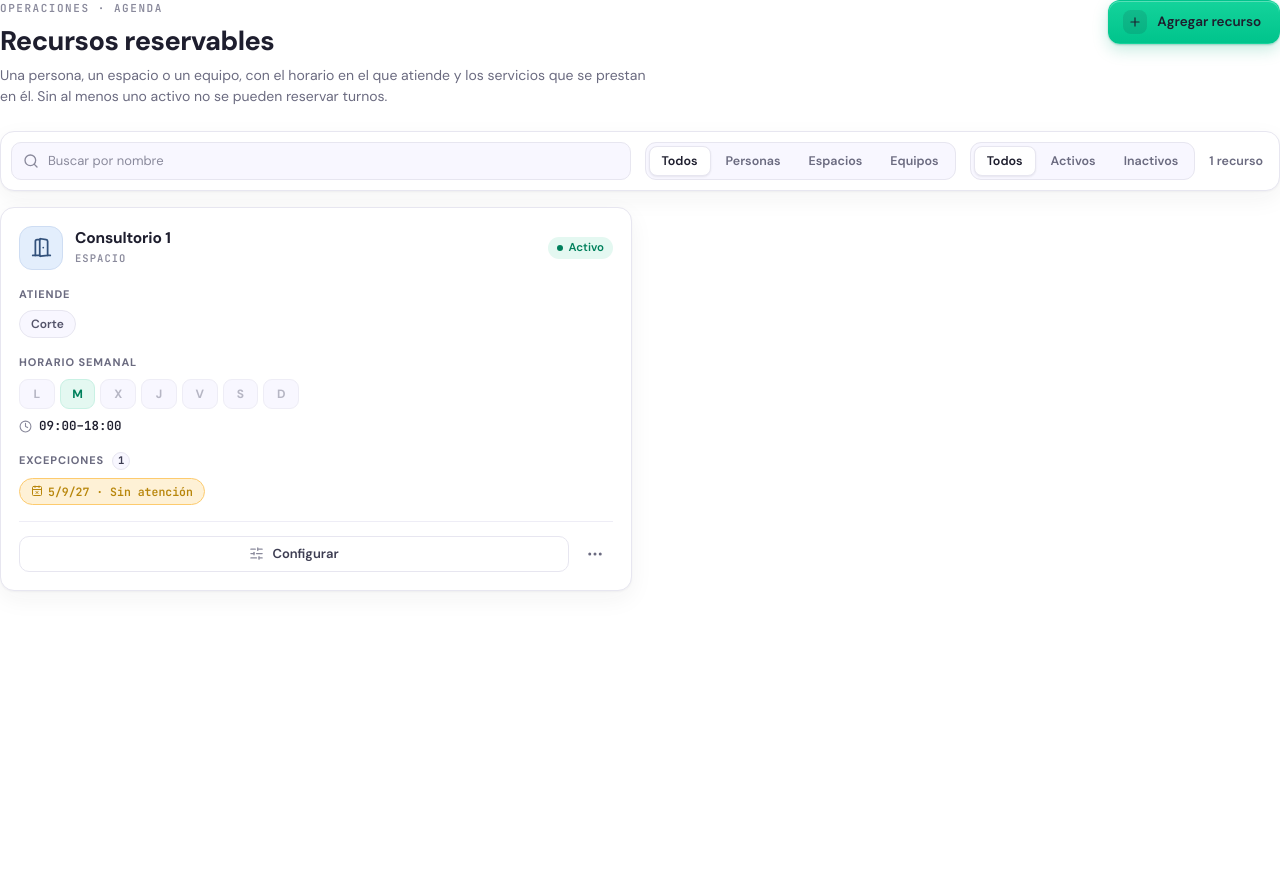
Test: PAN-AGE-03 › no deja guardar una franja invertida, y lo dice con la frase de la historia
Click the button "Configurar" at [294, 554], box [19,536,569,572]
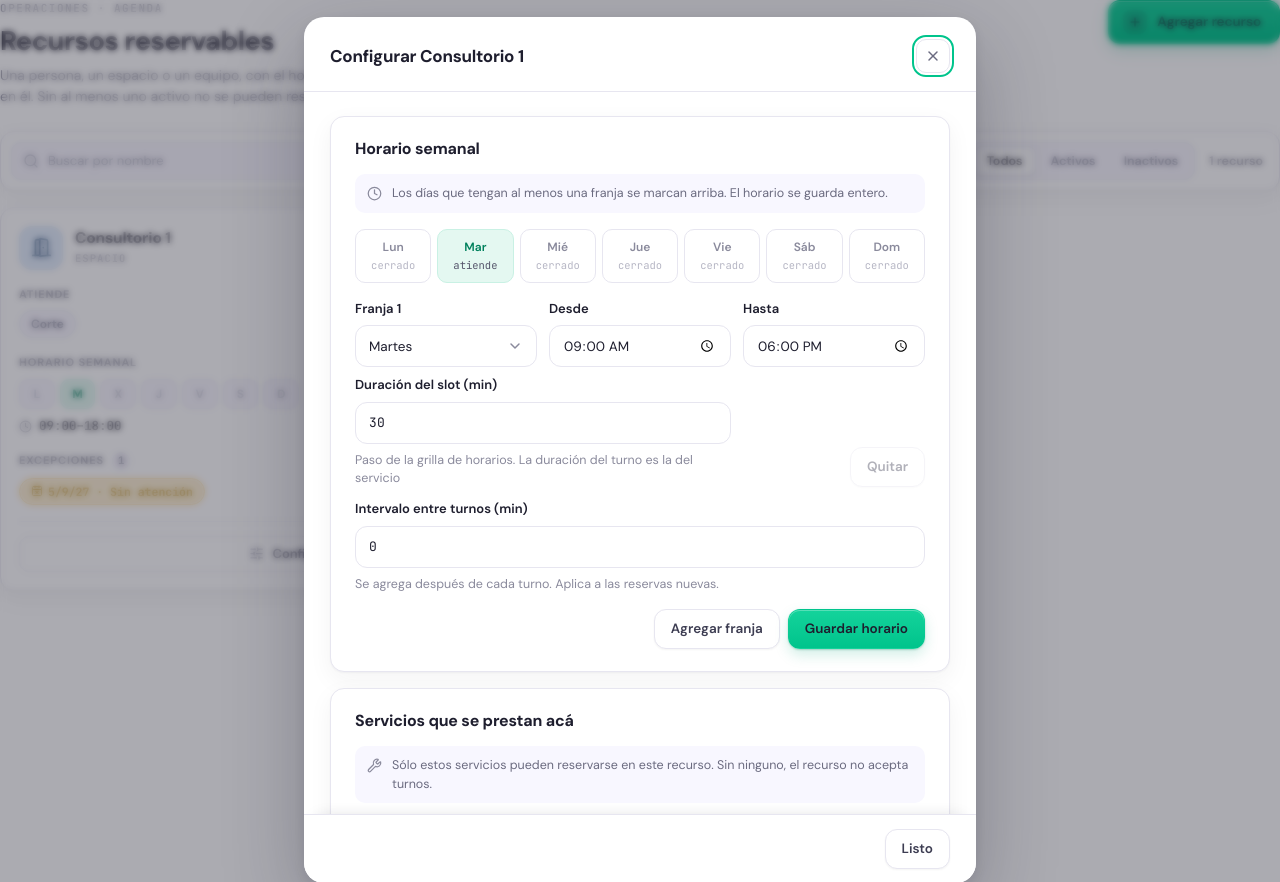
Replace the text in the time field labelled "Hasta" with "08:00" at [834, 346], box [743,325,925,367]
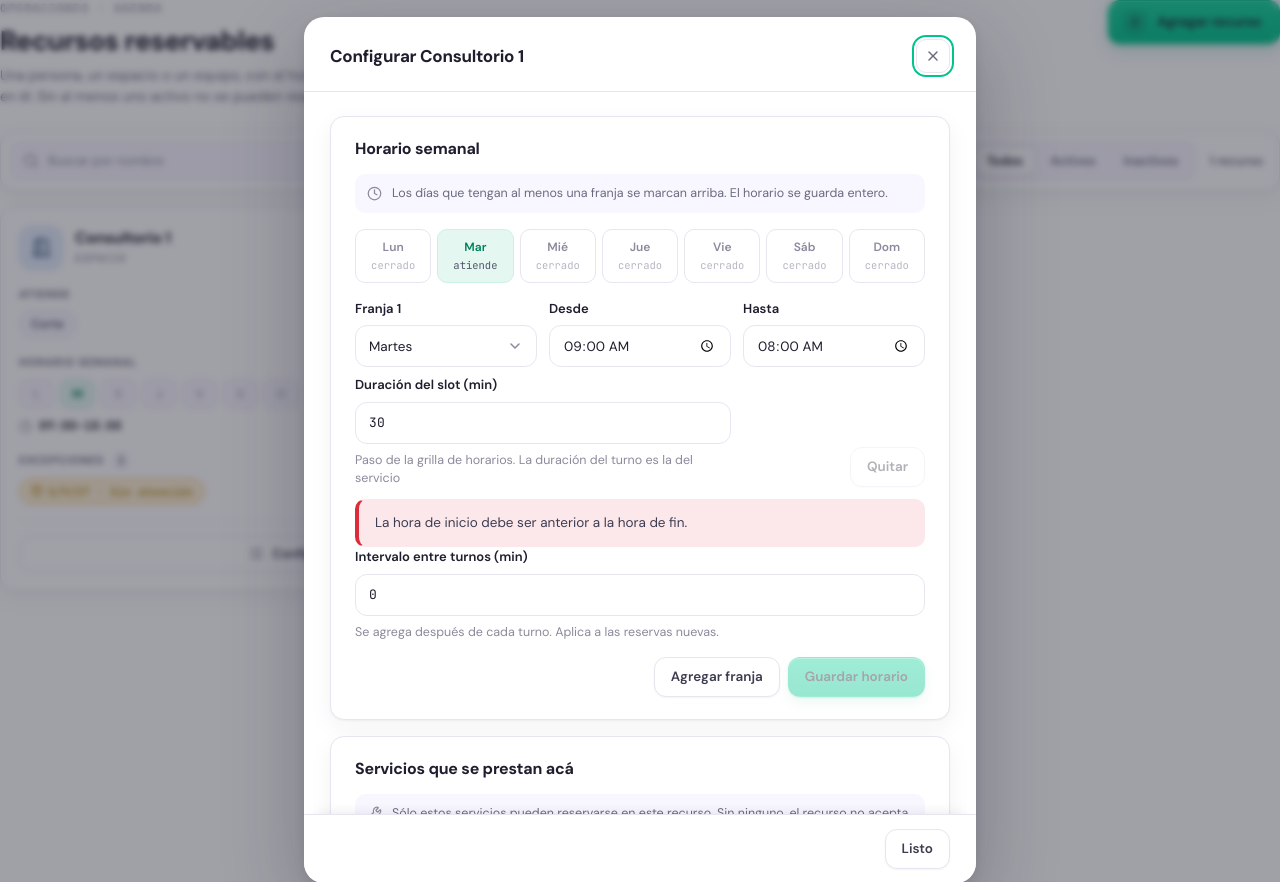
Expected: the text "La hora de inicio debe ser anterior a la hora de fin." is shown, [355,499,925,547]
Expected: the button "Guardar horario" is disabled, [788,657,925,697]
